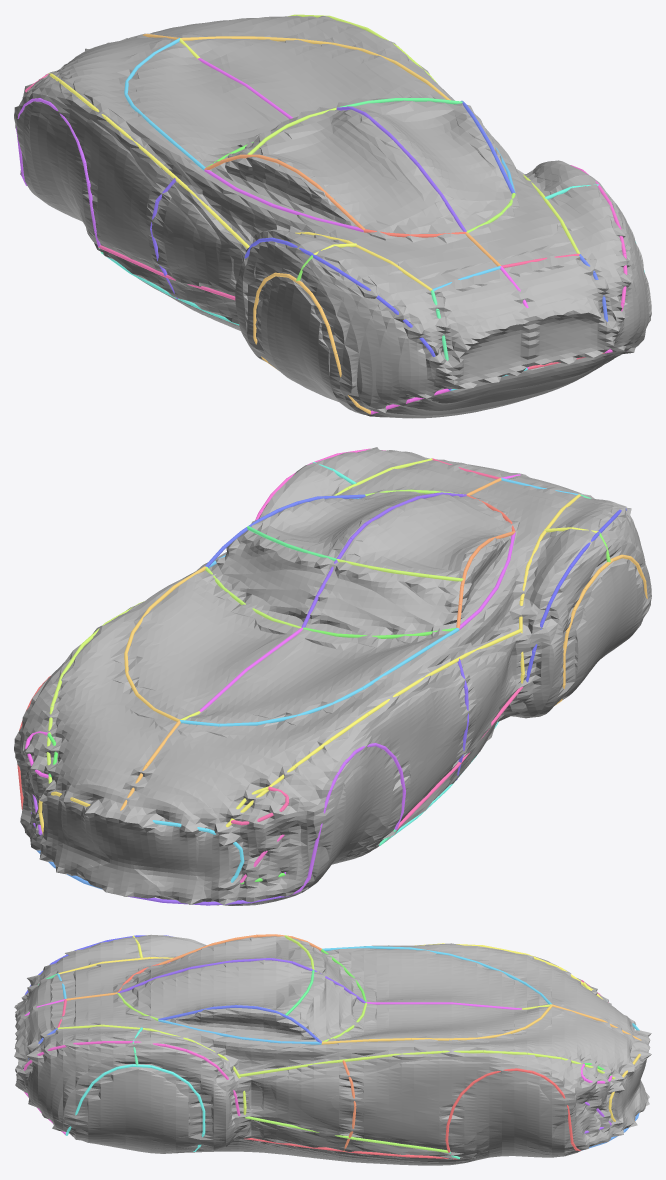
The model's file is ils_roadster.gltf.
3 renders of one model, top to bottom at view 1: azimuth 30°, elevation 25°; view 2: azimuth 150°, elevation 25°; view 3: azimuth 270°, elevation 25°, orthographic. The views are drawn at different scales.
Bounding box in the file's own units: 0.4073 × 0.2926 × 0.9133.
